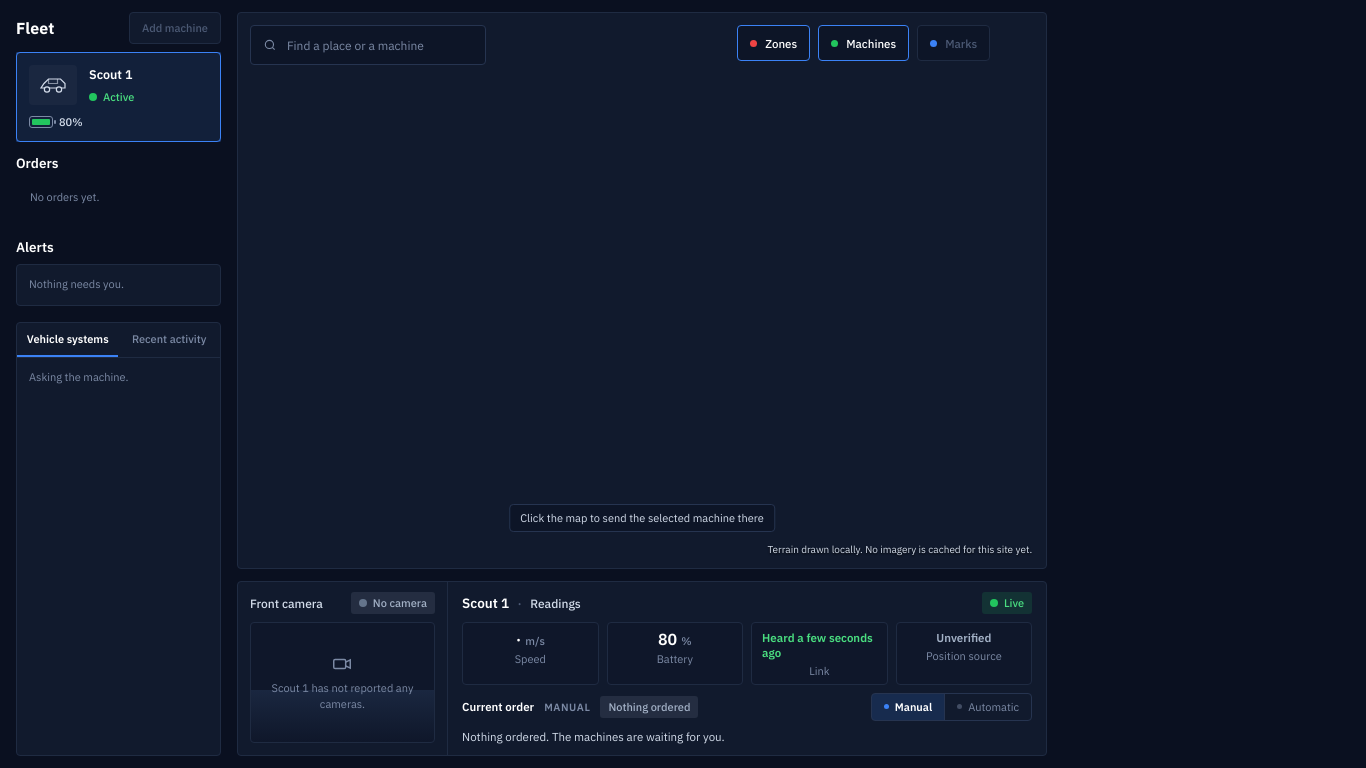
Test: the layout › keeps vehicle systems and recent activity as two tabs on the fleet rail
Expected: the text "Scout 1 arrived at the gate." is not shown
Step 1. Click the tab "Recent activity" → (169,340), box [118,323,220,357]
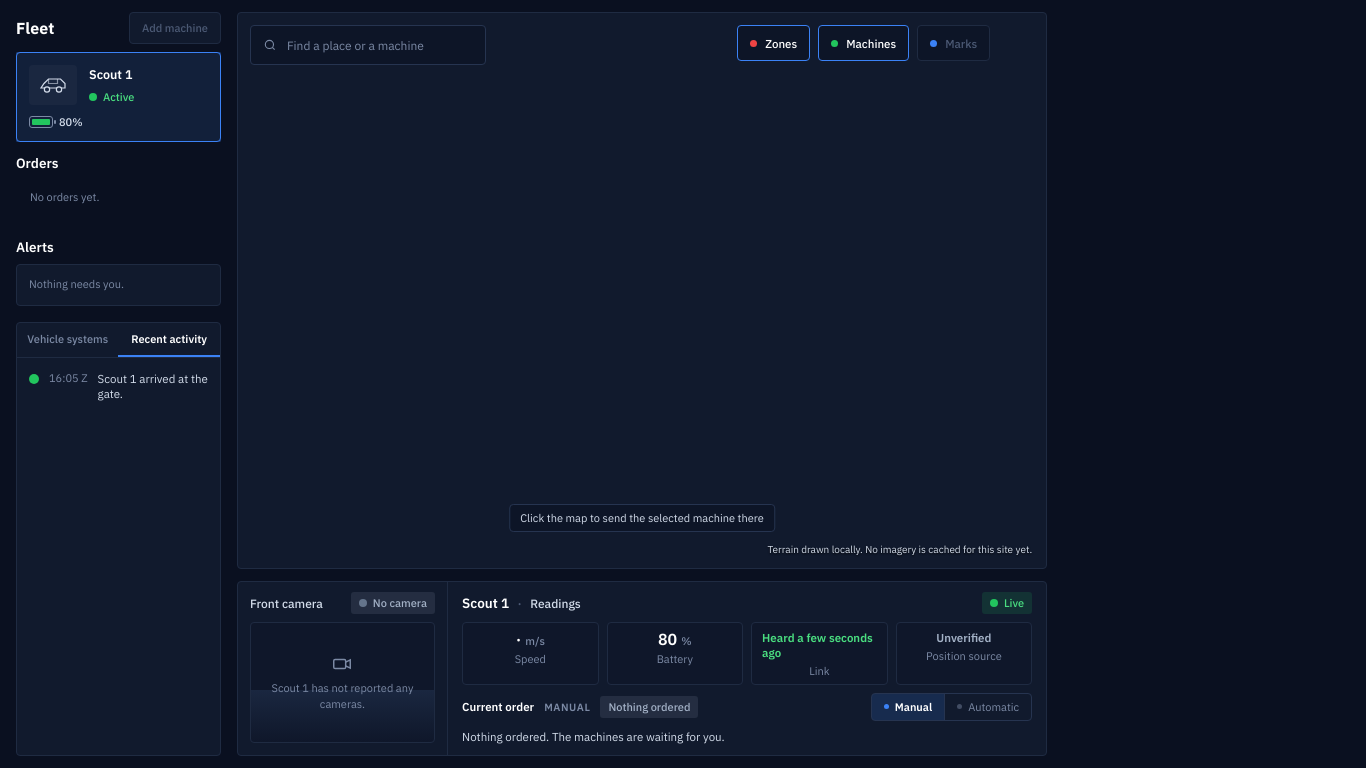
Expected: the text "Scout 1 arrived at the gate." is shown, [98,371,208,401]
